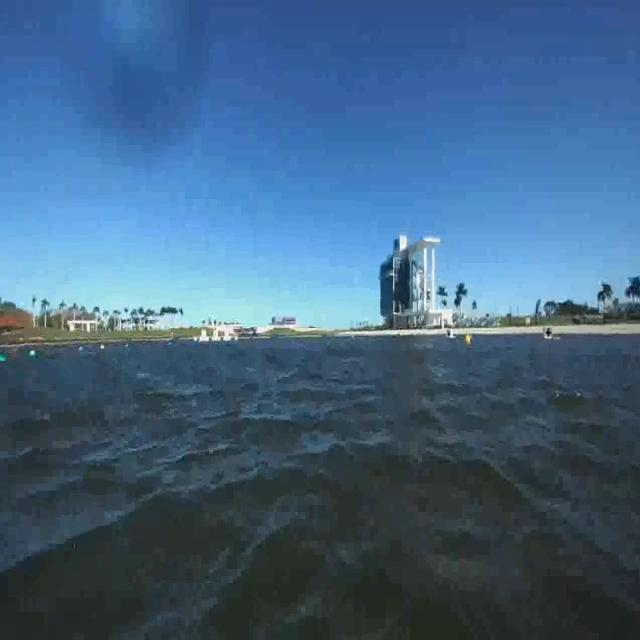green-buoy: (0, 354, 7, 363)
yellow-buoy: (464, 334, 472, 347)
